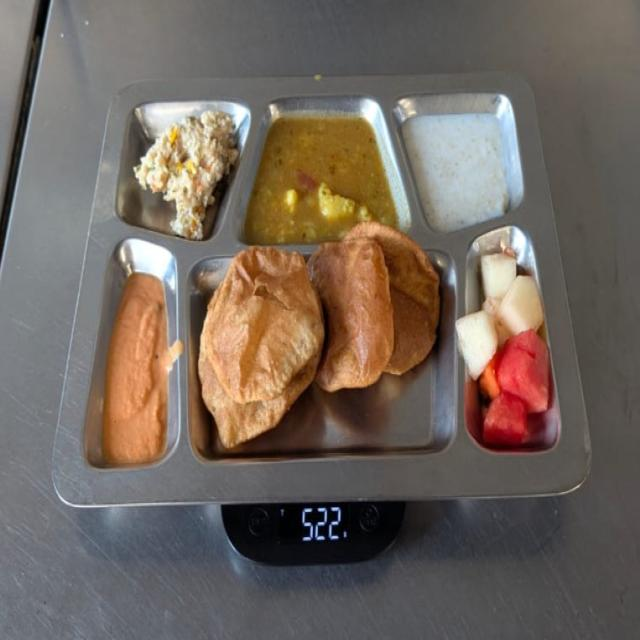Aloo Matar: (244, 120, 406, 242)
Chutney: (96, 269, 176, 474)
Mix Fruit: (456, 244, 555, 453)
Poori: (198, 223, 441, 447)
Porridge: (399, 108, 517, 235)
Upma: (128, 105, 237, 238)
